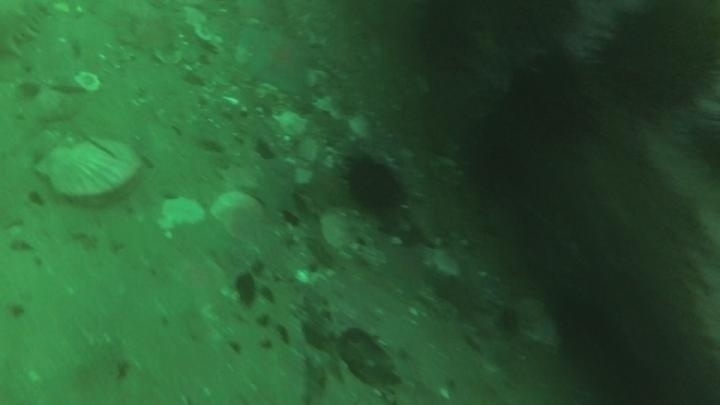echinus: (593, 4, 719, 116), (511, 62, 598, 155), (461, 111, 550, 200), (412, 4, 484, 72), (342, 154, 408, 216)
holothurian: (1, 1, 55, 60)
scallop: (34, 133, 143, 203), (209, 190, 267, 241)
starfish: (239, 24, 318, 98)
